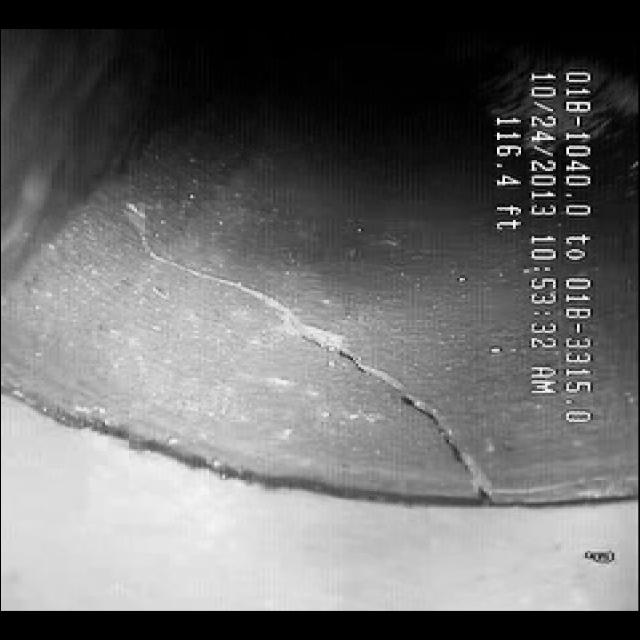Crack: (230, 261, 512, 486)
